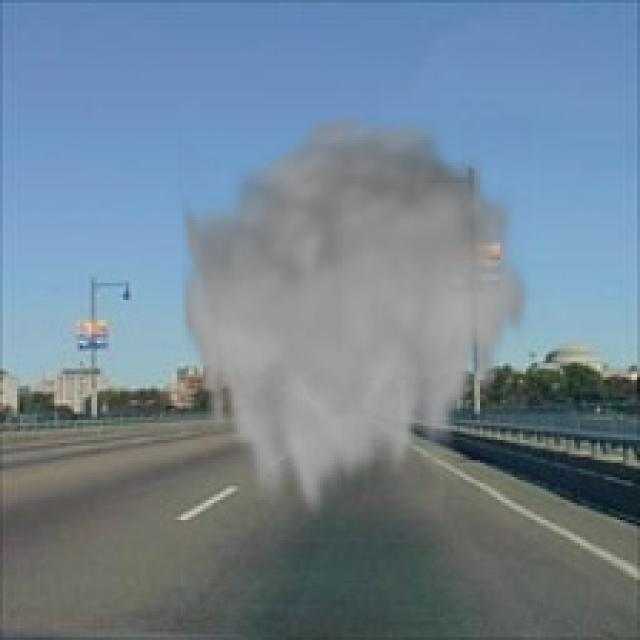Smoke: (177, 106, 534, 532)
